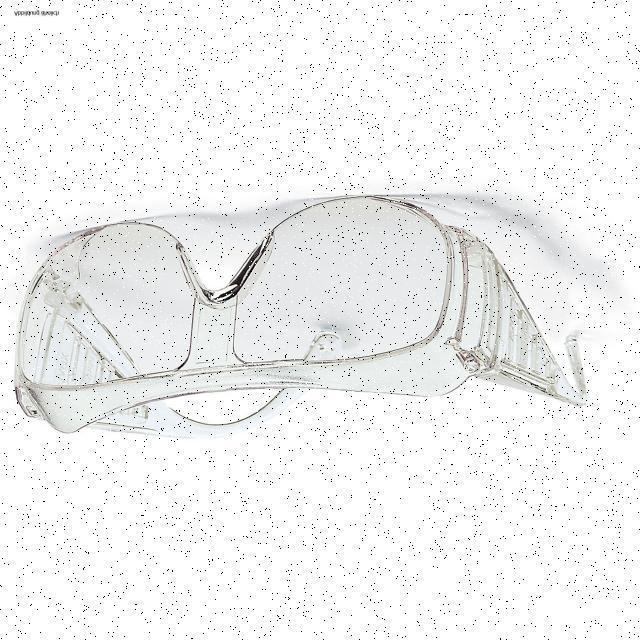Goggles: (0, 182, 613, 449)
